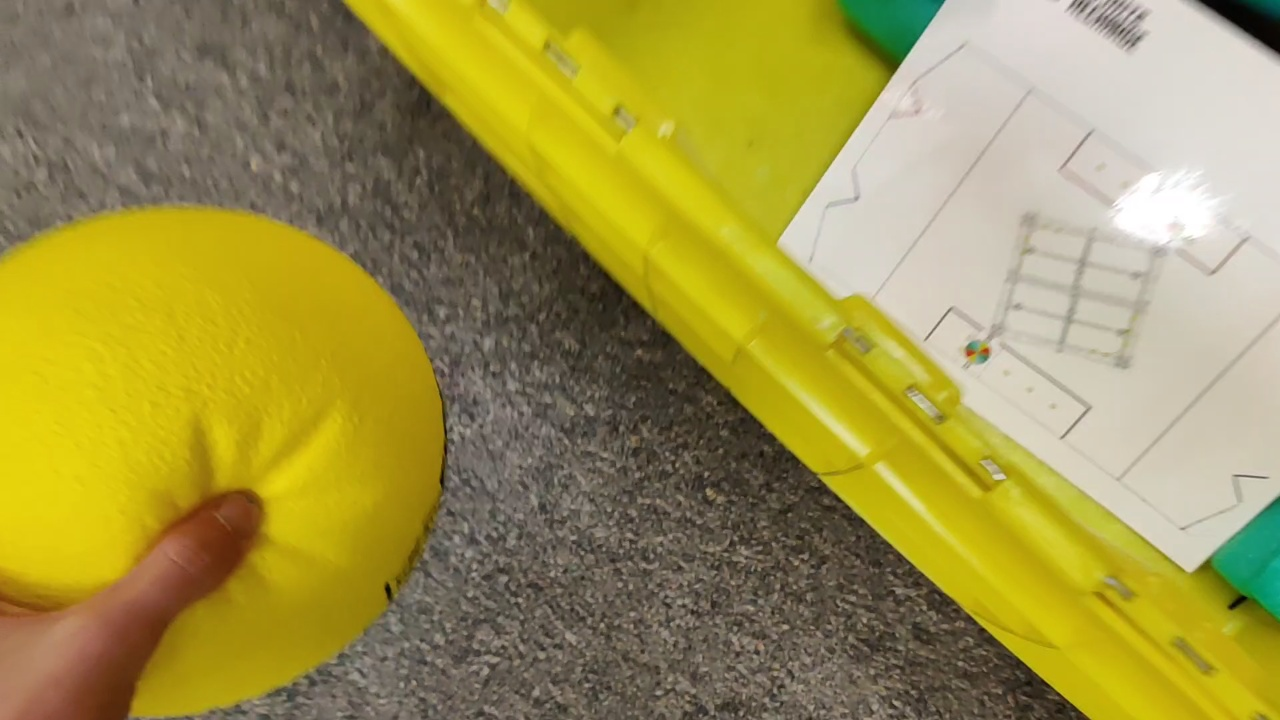Ball: (5, 207, 452, 720)
